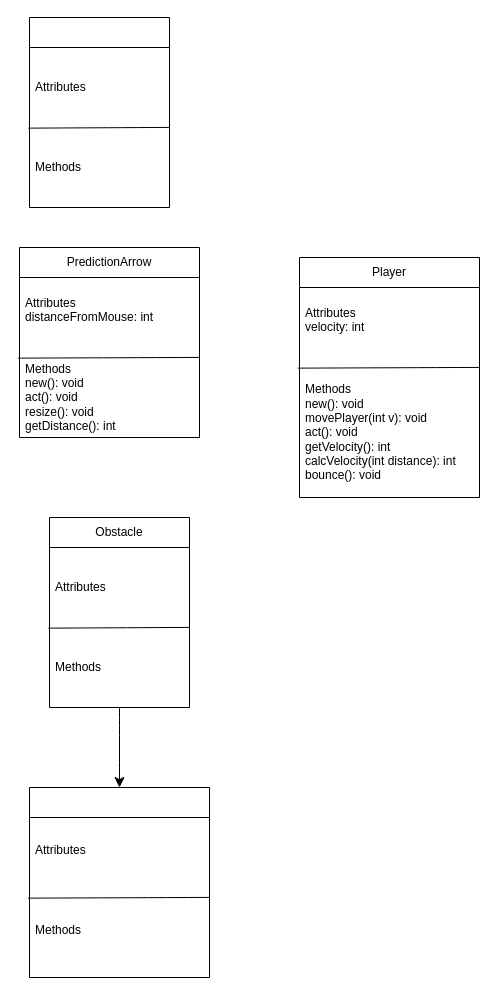
This 497x995 diagram has some shape labels left out. The shapes that lost their labels are listed below. From the top down, each one's box as (x1, y1, x2, y2) in pixels, then its label:
(28, 16, 170, 208): Name
(28, 786, 210, 978): SafeWall
